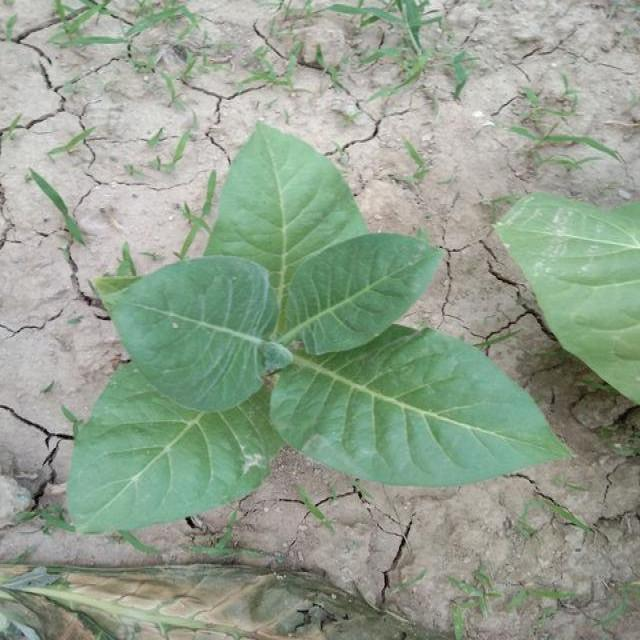crop: (70, 120, 576, 549), (498, 192, 640, 402)
